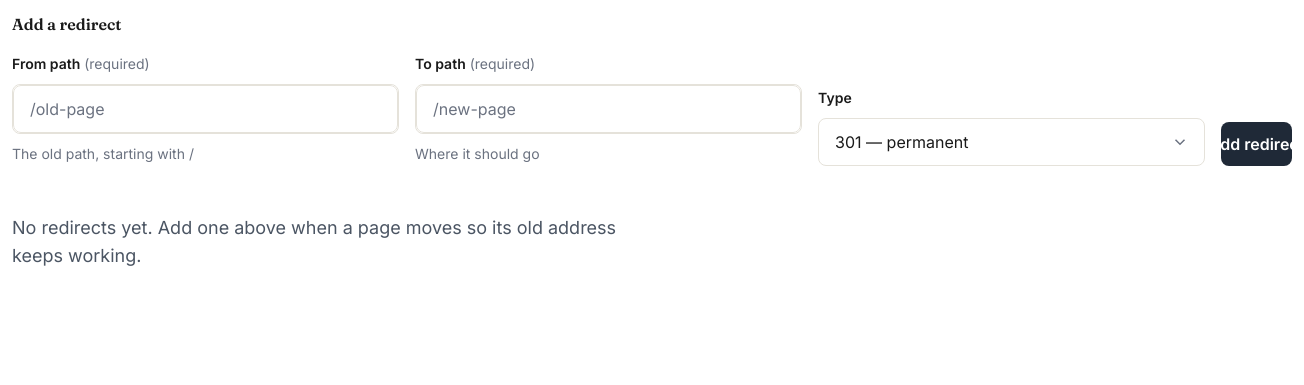
Test case: RedirectRulesTable › surfaces a field-linked error returned by the add action
The width and height of the screenshot is (1304, 385).
In the field labelled "From path (required)": point(206, 109) [13,85,398,133], type "bad"
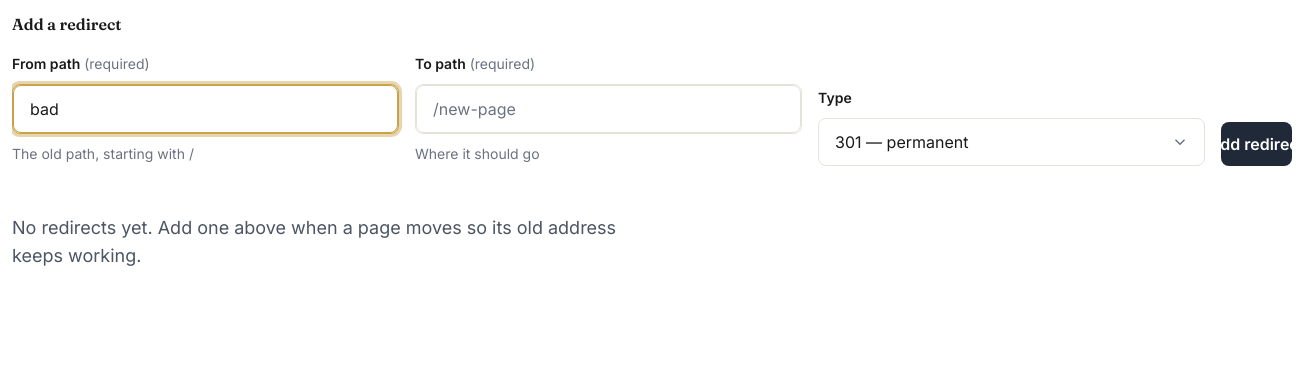
In the field labelled "To path (required)": point(608, 109) [416,85,801,133], type "/to"
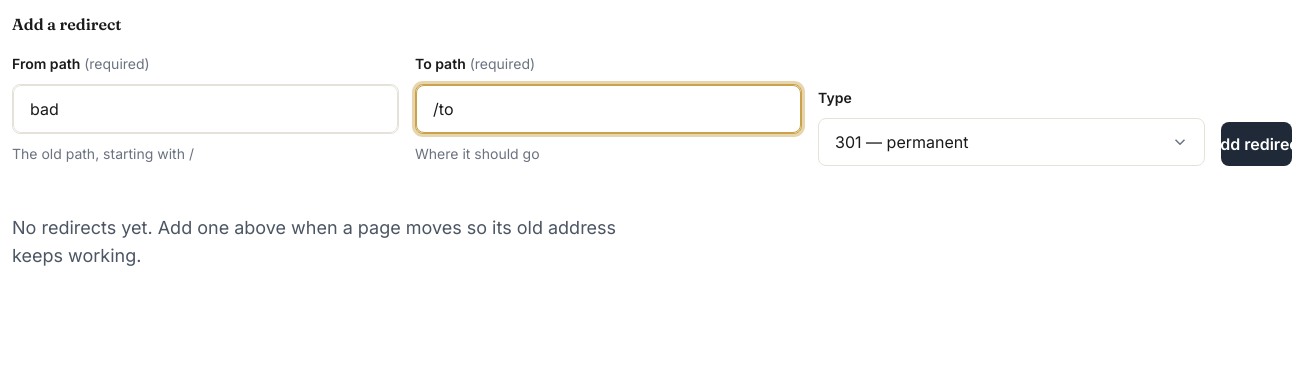
Click the button "Add redirect": point(1257, 144) [1221,122,1292,166]
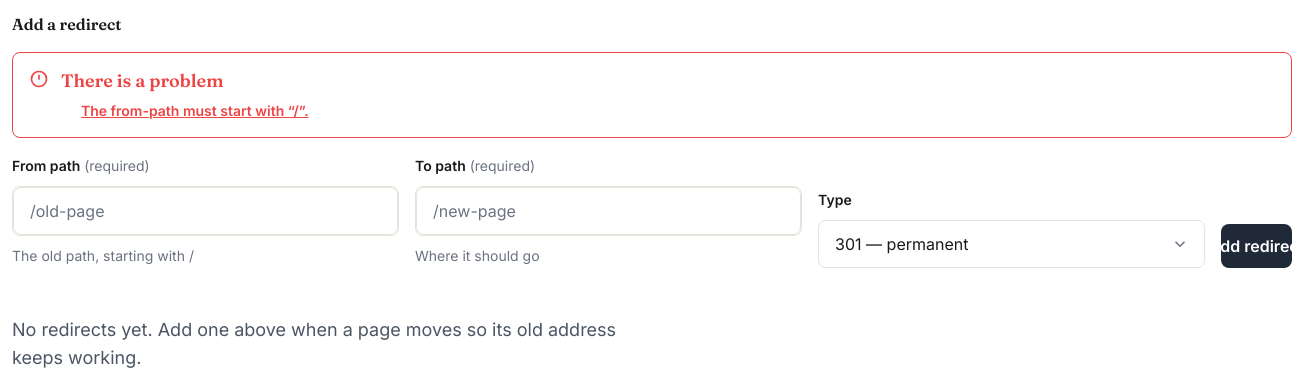
Check: the link "The from-path must start with “/”." is shown, box [81,102,309,119]
